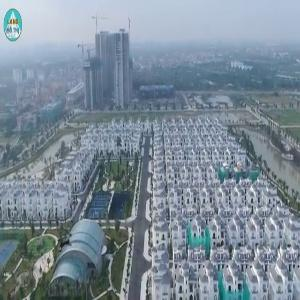drone: (45, 224, 84, 263)
